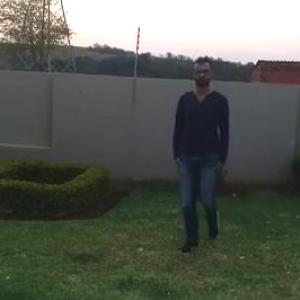follow: (169, 55, 235, 256)
